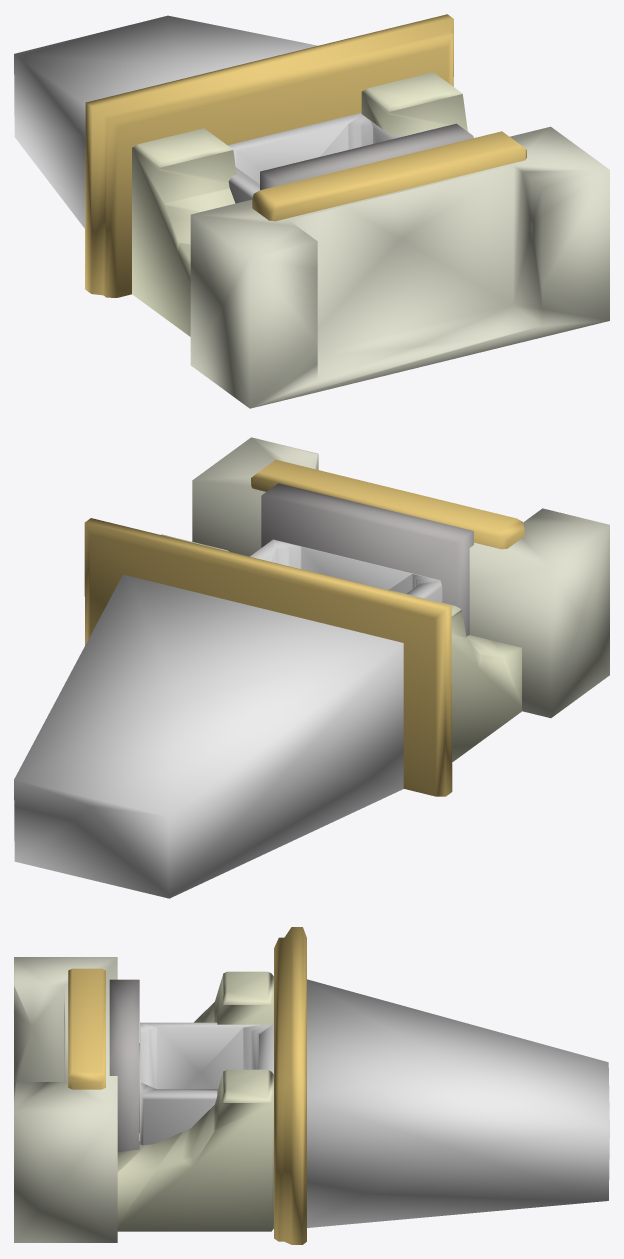
The model's file is fireplace.fbx.
3 renders of one model, top to bottom at view 1: azimuth 30°, elevation 25°; view 2: azimuth 150°, elevation 25°; view 3: azimuth 270°, elevation 25°, orthographic. The views are drawn at different scales.
Visible parts, largest first — view 1: socle_reserve_bois_of, poutre_brzskin, hote_flwhite, montantg_bone2, poutre_bas_brzskin, foyer_f_grey, montantdr_bone2, brique_gold; view 2: hote_flwhite, socle_reserve_bois_of, poutre_brzskin, brique_gold, montantg_bone2, poutre_bas_brzskin, foyer_f_grey; view 3: hote_flwhite, socle_reserve_bois_of, montantdr_bone2, foyer_f_grey, poutre_brzskin, brique_gold, poutre_bas_brzskin, montantg_bone2.
Boxes of the visible parts, box(x1,y1,x2,y2) form: socle_reserve_bois_of: box(190, 126, 609, 408); poutre_brzskin: box(85, 14, 453, 297); hote_flwhite: box(14, 15, 317, 228); montantg_bone2: box(132, 128, 236, 336); poutre_bas_brzskin: box(252, 131, 526, 221); foyer_f_grey: box(228, 112, 402, 203); montantdr_bone2: box(361, 72, 468, 136); brique_gold: box(260, 123, 473, 190); hote_flwhite: box(14, 574, 403, 898); socle_reserve_bois_of: box(192, 437, 609, 718); poutre_brzskin: box(84, 518, 452, 796); brique_gold: box(261, 483, 473, 636); montantg_bone2: box(389, 590, 521, 762); poutre_bas_brzskin: box(251, 459, 524, 549); foyer_f_grey: box(250, 539, 442, 602); hote_flwhite: box(307, 979, 609, 1227); socle_reserve_bois_of: box(14, 957, 117, 1242); montantdr_bone2: box(117, 1069, 273, 1231); foyer_f_grey: box(140, 1022, 273, 1145); poutre_brzskin: box(274, 927, 306, 1244); brique_gold: box(109, 979, 139, 1152); poutre_bas_brzskin: box(68, 968, 105, 1089); montantg_bone2: box(139, 971, 273, 1132).
Bounding box in the file's own units: 0.00611 × 0.00301 × 0.00992.
